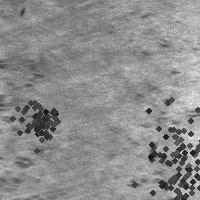rolled-in_scale: (125, 11, 178, 192), (126, 81, 200, 200), (1, 50, 55, 197), (140, 138, 200, 200), (10, 90, 68, 148)
